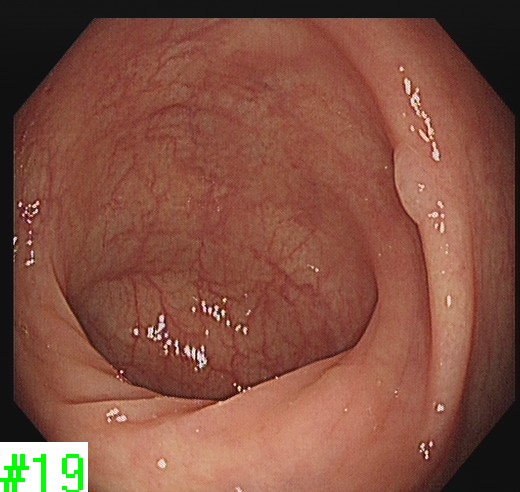others: (390, 141, 435, 227)
